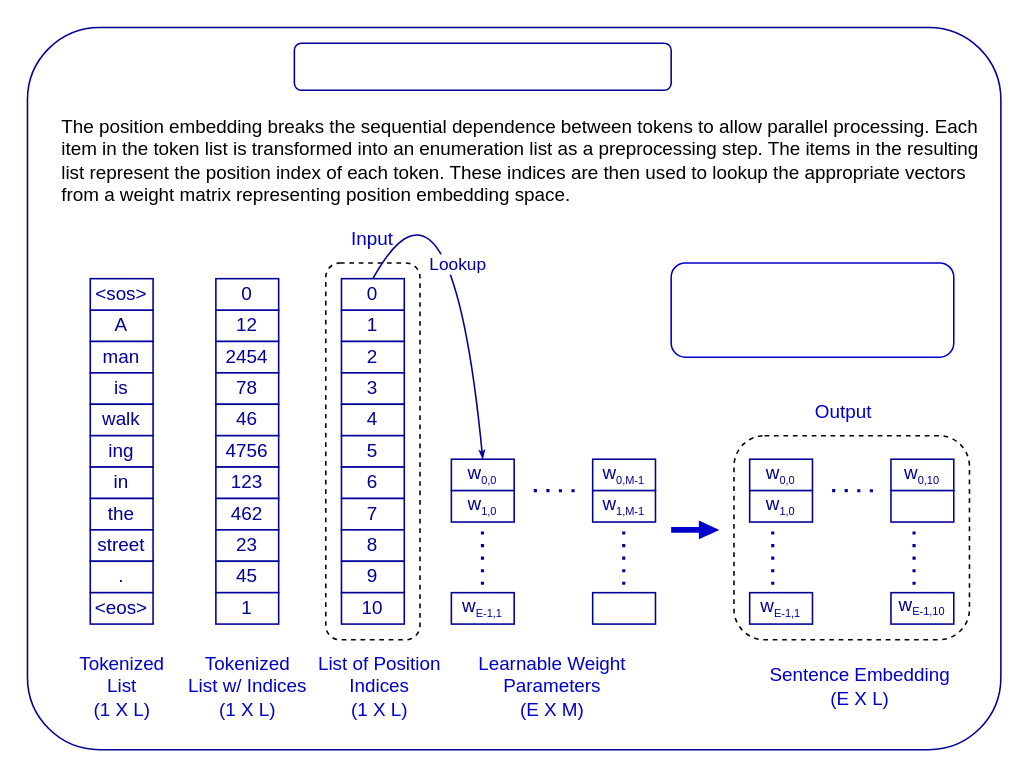
The diagram is 1028 pixels wide and 777 high, and some of its shapes have lost their labels. Each missing label, with the centre of its shape:
"L: Sentence Length E: Embedding Dimension M: Maximum Sentence Length" goes at (812,309).
"Position Embedding" goes at (482,66).
"w 1,10" goes at (921,505).
"w E-1,M-1" goes at (623,607).
